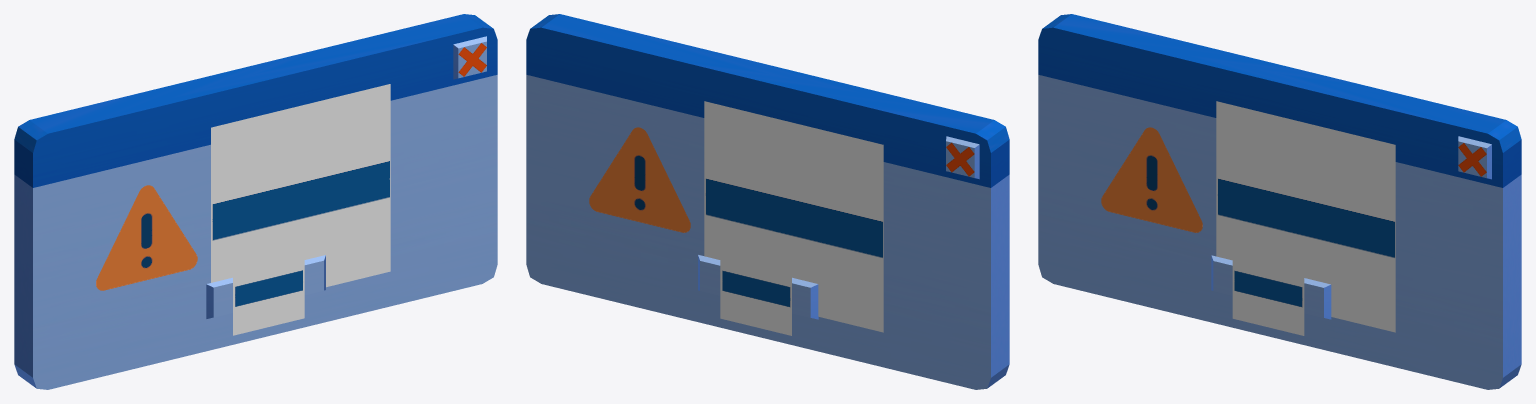
The model's file is DM_WallWarning.fbx.
3 views of the same model, side by side, from view 1: azimuth 30°, elevation 25°; view 2: azimuth 150°, elevation 25°; view 3: azimuth 330°, elevation 25° (orthographic).
Parts seen in each view (by area): view 1: SM_ErrorWall, SM_ErrorWallStick; view 2: SM_ErrorWall, SM_ErrorWallStick; view 3: SM_ErrorWall, SM_ErrorWallStick.
Boxes of the visible parts, x1,y1,x2,y2 form: SM_ErrorWall: (14, 14, 497, 389); SM_ErrorWallStick: (96, 43, 486, 335); SM_ErrorWall: (526, 14, 1009, 389); SM_ErrorWallStick: (589, 101, 974, 335); SM_ErrorWall: (1038, 14, 1521, 389); SM_ErrorWallStick: (1101, 101, 1486, 335).
Size of the model in its own units: 83.64 by 44.08 by 7.66.
5 materials, 5 textured.
